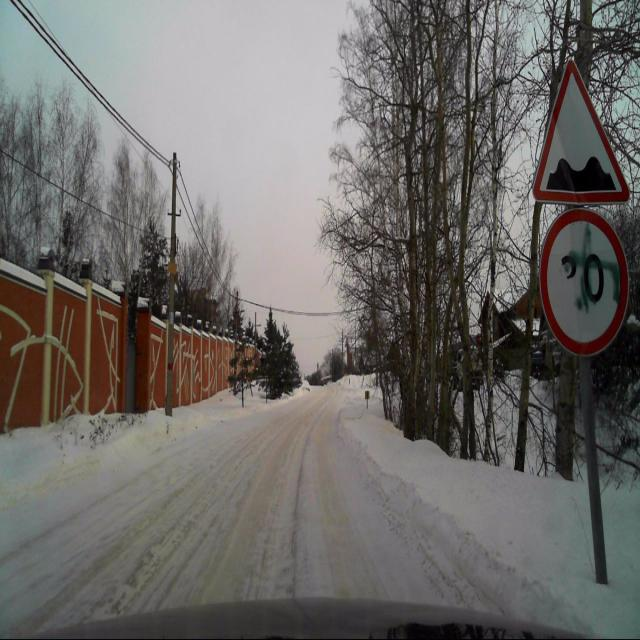object: (578, 353, 607, 585)
road sign: (530, 56, 631, 202)
